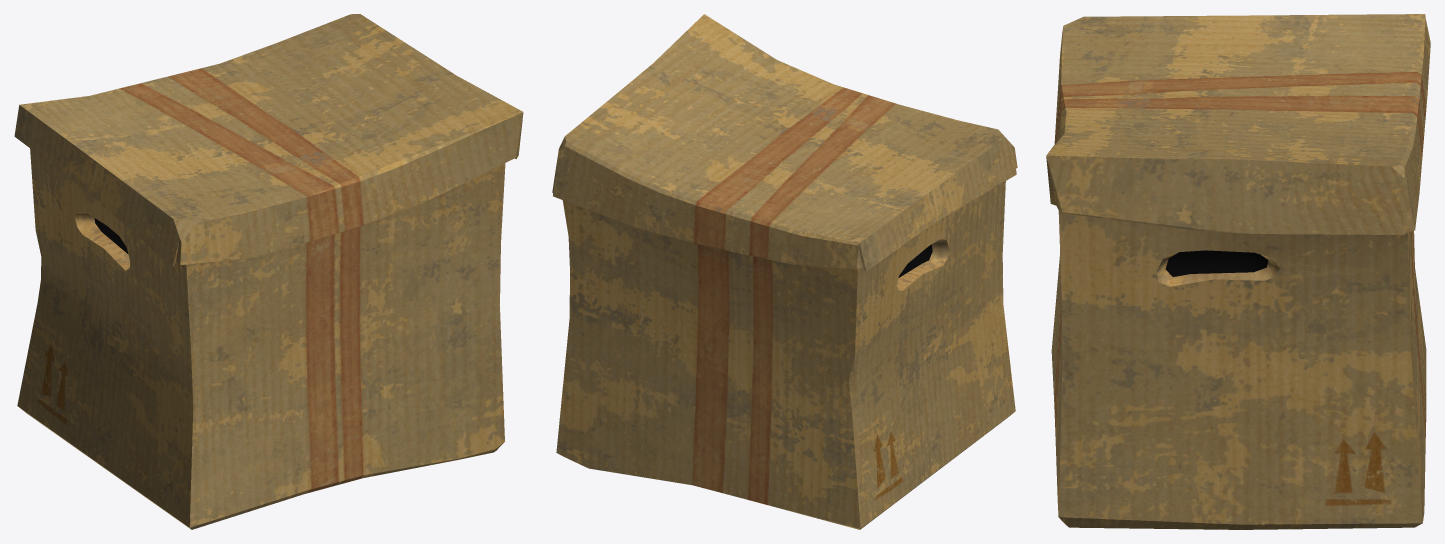
The picture shows the model from 3 angles, left to right: view 1: azimuth 30°, elevation 25°; view 2: azimuth 150°, elevation 25°; view 3: azimuth 270°, elevation 25°; orthographic projection. The views are drawn at different scales.
Visible parts, largest first — view 1: SM_Box_00_MI_Box_00_Inst_0; view 2: SM_Box_00_MI_Box_00_Inst_0; view 3: SM_Box_00_MI_Box_00_Inst_0.
Boxes of the visible parts, x1,y1,x2,y2 form: SM_Box_00_MI_Box_00_Inst_0: (14,14,523,529); SM_Box_00_MI_Box_00_Inst_0: (552,14,1017,529); SM_Box_00_MI_Box_00_Inst_0: (1046,14,1430,529).
Bounding box in the file's own units: 57.39 × 55.02 × 50.05.
1 material, 1 textured.
